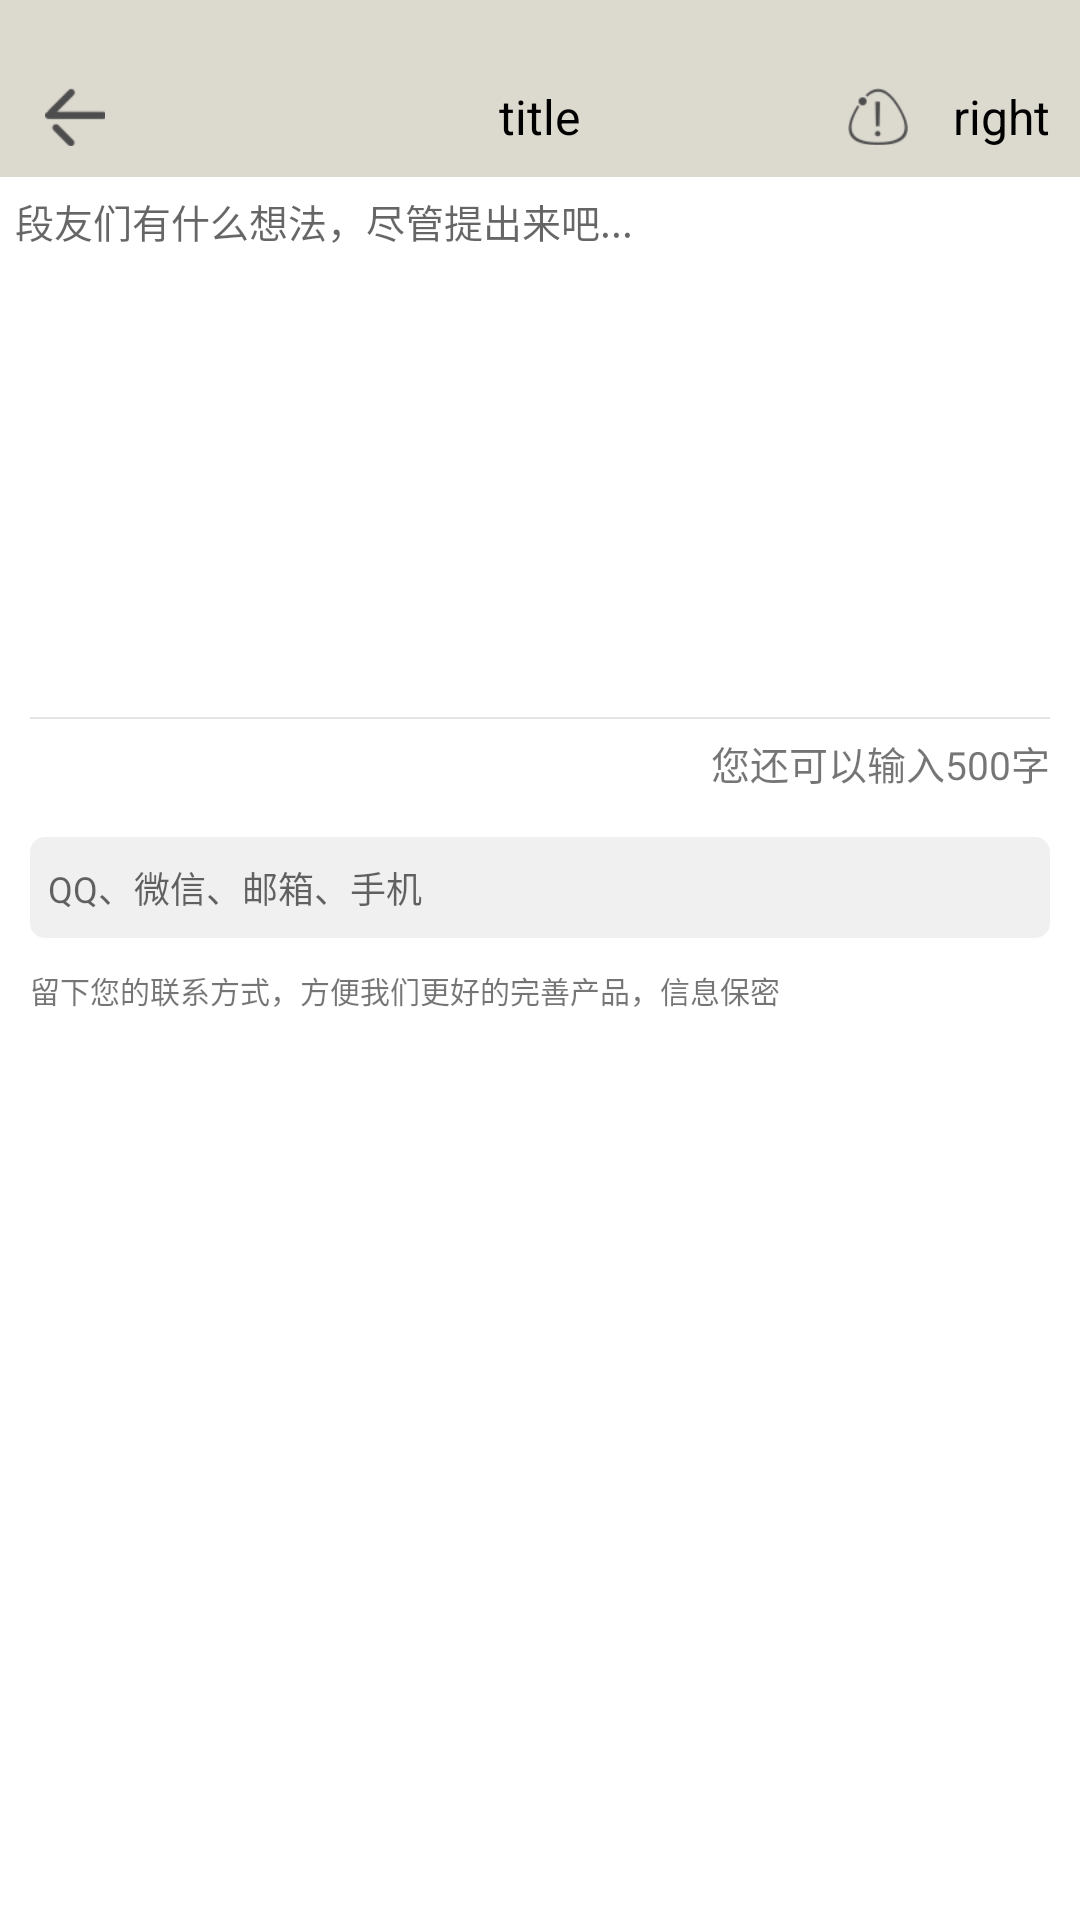

Icon bounding boxes for this 1080w x 1920h phone screenshot, format [x1=x1, y1=y1, x2=x2, y2=y2]:
back: [x1=45, y1=89, x2=105, y2=146]
